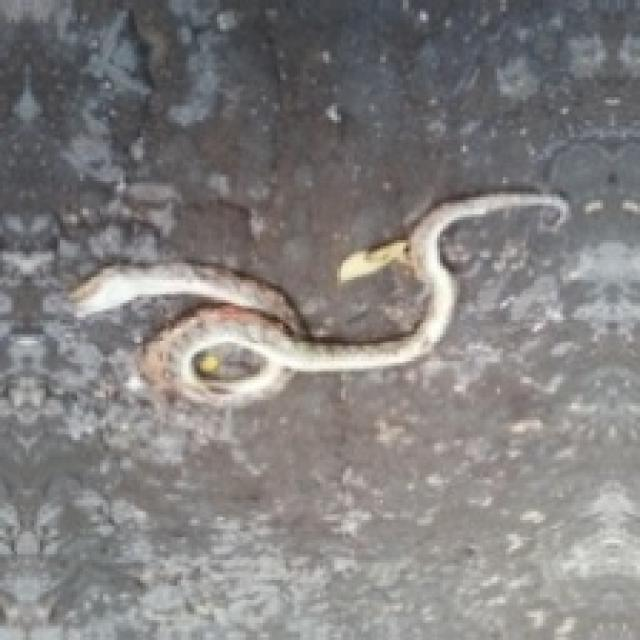reticulated python: (69, 191, 566, 403)
